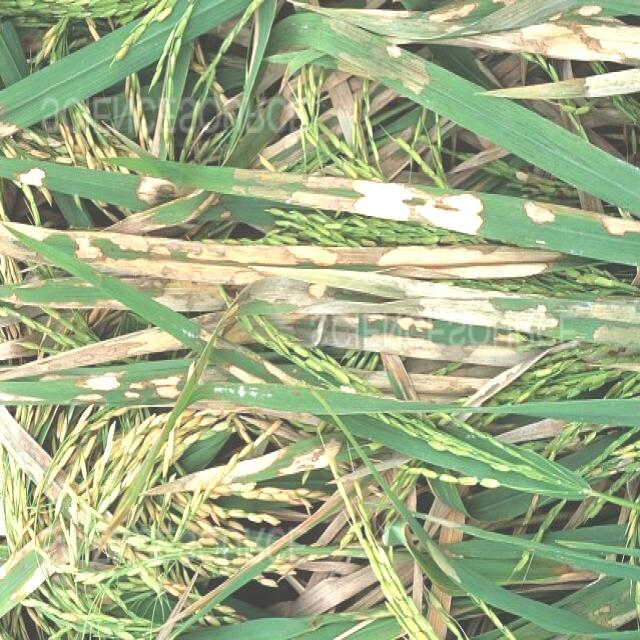Bacterial_Leaf_Blight: (1, 232, 574, 288), (286, 173, 488, 235), (222, 436, 344, 487), (1, 522, 70, 604), (71, 369, 185, 407), (135, 174, 177, 212), (14, 164, 48, 190)
